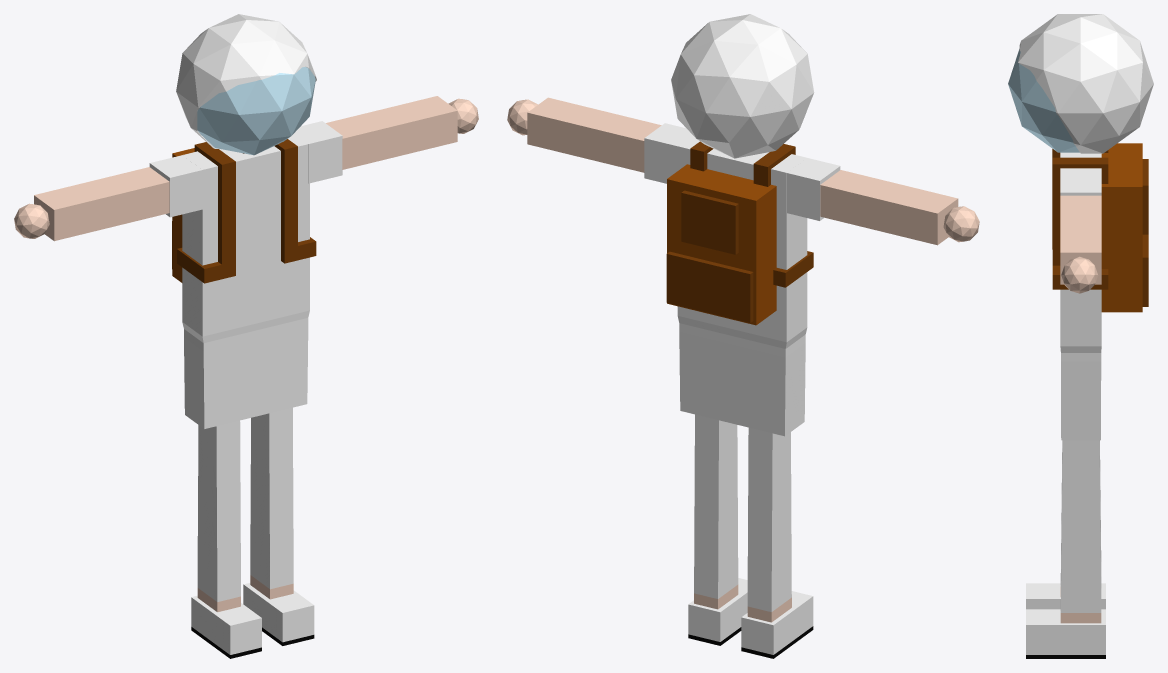
File: Personaje Astronauta.fbx
3 renders of one model, left to right at view 1: azimuth 30°, elevation 25°; view 2: azimuth 150°, elevation 25°; view 3: azimuth 270°, elevation 25°, orthographic.
Visible parts, largest first — view 1: Cube.010, Cube.001, Icosphere.001, Icosphere.002, Icosphere.003, Cube, Cube.005; view 2: Cube.010, Cube, Cube.001, Icosphere.002, Icosphere.001, Cube.005; view 3: Icosphere.002, Cube, Cube.010, Cube.001, Cube.005, Icosphere.001, Icosphere.003.
Part boxes in pixels (box(x1,y1,x2,y2)): Cube.010: box(149, 121, 342, 428); Cube.001: box(197, 407, 293, 612); Icosphere.001: box(14, 96, 478, 241); Icosphere.002: box(176, 14, 316, 148); Icosphere.003: box(197, 67, 315, 155); Cube: box(172, 139, 316, 283); Cube.005: box(191, 583, 314, 658); Cube.010: box(644, 123, 840, 436); Cube: box(666, 141, 813, 325); Cube.001: box(694, 414, 791, 622); Icosphere.002: box(671, 14, 814, 158); Icosphere.001: box(507, 97, 979, 245); Cube.005: box(688, 578, 813, 658); Icosphere.002: box(1018, 14, 1153, 153); Cube: box(1052, 143, 1148, 312); Cube.010: box(1060, 152, 1101, 440); Cube.001: box(1060, 440, 1101, 623); Cube.005: box(1026, 583, 1105, 658); Icosphere.001: box(1060, 195, 1101, 293); Icosphere.003: box(1008, 49, 1079, 152).
Size of the model in its own units: 128 by 162 by 34.5.
